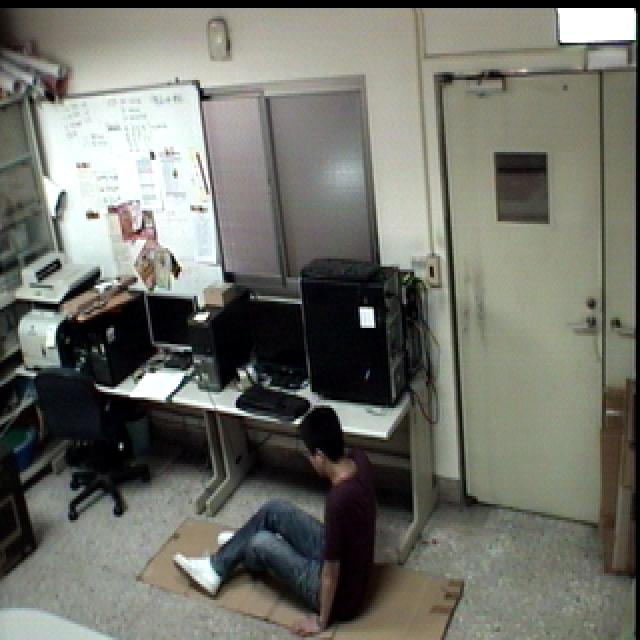sit: (167, 399, 386, 640)
